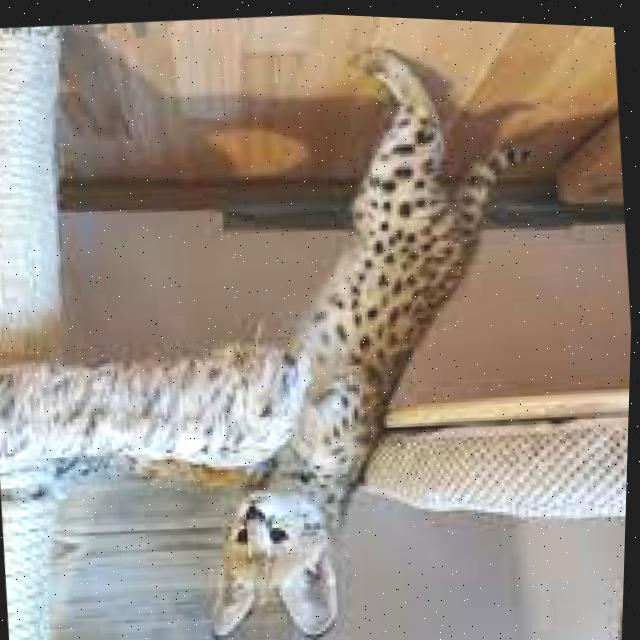Savannah: (159, 19, 582, 640)
